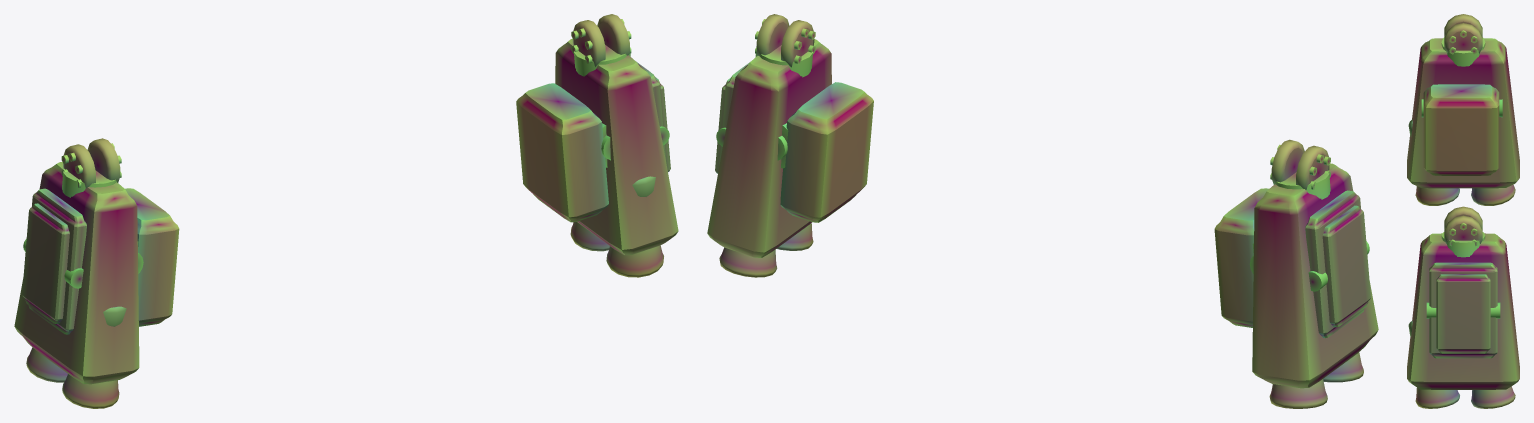
The model's file is llm_gen_leg_thrusters_038_3c265b.glb.
The picture shows the model from 3 angles, left to right: view 1: azimuth 30°, elevation 25°; view 2: azimuth 150°, elevation 25°; view 3: azimuth 270°, elevation 25°; orthographic projection. The views are drawn at different scales.
Visible parts, largest first — view 1: flare_cowling_main_0_barrel_metal_l, flare_cowling_main_0_barrel_metal_r, adapter_calf_clamp_r, adapter_calf_clamp_l, flare_louver_gold_3_gold_l, adapter_sub_louver_frame_dark_1_adapter_dark_l, servo_5_servo_accent_r, servo_5_servo_accent_l, flare_bell_fwd_6_vernier_bell_vernier_l, flare_bell_fwd_6_vernier_bell_vernier_r, flare_bell_aft_7_vernier_bell_vernier_l, flare_bell_aft_7_vernier_bell_vernier_r (+2 smaller); view 2: flare_cowling_main_0_barrel_metal_l, flare_cowling_main_0_barrel_metal_r, adapter_calf_clamp_r, flare_louver_gold_3_gold_l, adapter_calf_clamp_l, adapter_sub_louver_frame_dark_1_adapter_dark_l, servo_5_servo_accent_r, servo_5_servo_accent_l, flare_bell_aft_7_vernier_bell_vernier_l, flare_bell_aft_7_vernier_bell_vernier_r, flare_bell_fwd_6_vernier_bell_vernier_l, adapter_sub_top_cap_dark_4_adapter_dark_l (+1 smaller); view 3: flare_cowling_main_0_barrel_metal_r, flare_cowling_main_0_barrel_metal_l, adapter_calf_clamp_l, flare_louver_gold_3_gold_r, adapter_sub_louver_frame_dark_1_adapter_dark_r, servo_5_servo_accent_l, servo_5_servo_accent_r, flare_bell_aft_7_vernier_bell_vernier_r, flare_bell_fwd_6_vernier_bell_vernier_r, flare_bell_aft_7_vernier_bell_vernier_l, flare_bell_fwd_6_vernier_bell_vernier_l, adapter_sub_top_cap_dark_4_adapter_dark_r (+5 smaller).
Boxes of the visible parts, x1,y1,x2,y2 form: flare_cowling_main_0_barrel_metal_l: (14,162,139,384); flare_cowling_main_0_barrel_metal_r: (555,38,678,255); adapter_calf_clamp_r: (516,83,608,222); adapter_calf_clamp_l: (125,188,179,326); flare_louver_gold_3_gold_l: (22,203,69,323); adapter_sub_louver_frame_dark_1_adapter_dark_l: (24,188,86,334); servo_5_servo_accent_r: (572,14,629,66); servo_5_servo_accent_l: (63,138,120,188); flare_bell_fwd_6_vernier_bell_vernier_l: (62,374,119,408); flare_bell_fwd_6_vernier_bell_vernier_r: (606,245,663,277); flare_bell_aft_7_vernier_bell_vernier_l: (26,347,67,382); flare_bell_aft_7_vernier_bell_vernier_r: (570,222,609,251); flare_cowling_main_0_barrel_metal_l: (1252,163,1378,388); flare_cowling_main_0_barrel_metal_r: (707,39,831,257); adapter_calf_clamp_r: (780,82,873,222); flare_louver_gold_3_gold_l: (1322,205,1370,327); adapter_calf_clamp_l: (1214,188,1268,327); adapter_sub_louver_frame_dark_1_adapter_dark_l: (1305,190,1368,338); servo_5_servo_accent_r: (756,14,814,67); servo_5_servo_accent_l: (1271,139,1329,189); flare_bell_aft_7_vernier_bell_vernier_l: (1269,379,1327,408); flare_bell_aft_7_vernier_bell_vernier_r: (719,247,777,277); flare_bell_fwd_6_vernier_bell_vernier_l: (1323,352,1363,382); adapter_sub_top_cap_dark_4_adapter_dark_l: (1275,170,1330,199); flare_cowling_main_0_barrel_metal_r: (1407,233,1519,389); flare_cowling_main_0_barrel_metal_l: (1407,38,1519,188); adapter_calf_clamp_l: (1423,84,1499,175); flare_louver_gold_3_gold_r: (1436,274,1490,353); adapter_sub_louver_frame_dark_1_adapter_dark_r: (1429,262,1497,358); servo_5_servo_accent_l: (1444,14,1482,53); servo_5_servo_accent_r: (1444,206,1482,243); flare_bell_aft_7_vernier_bell_vernier_r: (1471,386,1515,408); flare_bell_fwd_6_vernier_bell_vernier_r: (1415,387,1459,408); flare_bell_aft_7_vernier_bell_vernier_l: (1471,185,1515,205); flare_bell_fwd_6_vernier_bell_vernier_l: (1415,186,1459,205); adapter_sub_top_cap_dark_4_adapter_dark_r: (1441,232,1485,257).
Bounding box in the file's own units: 80.38 × 29.72 × 16.45.
